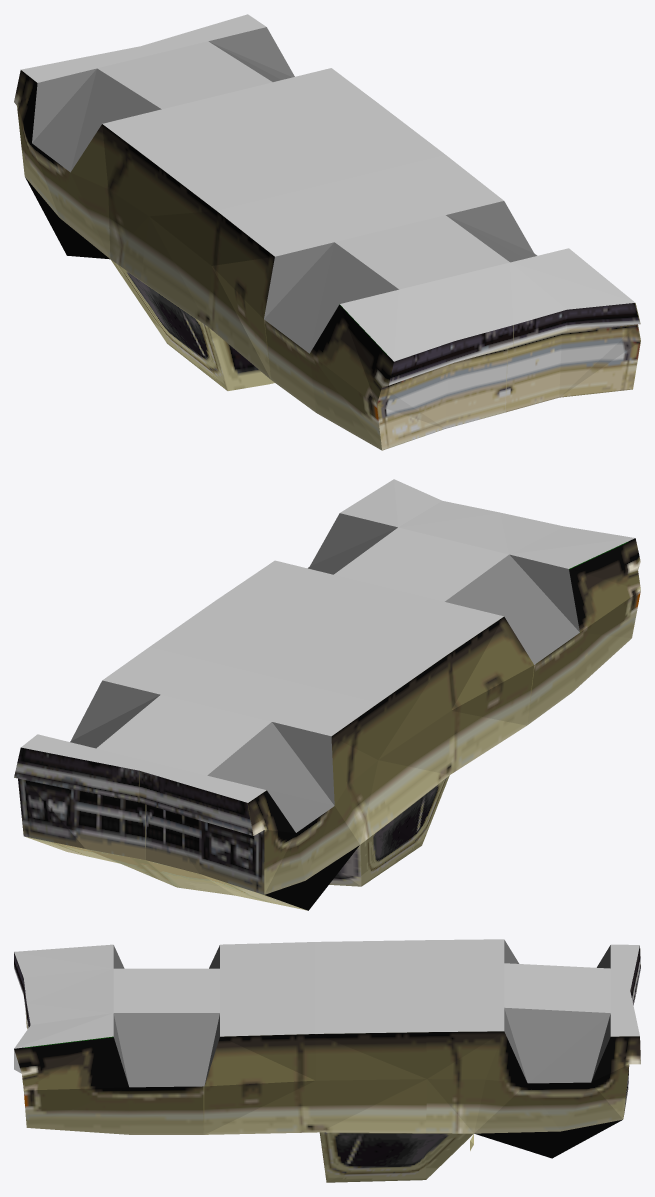
Rendered from VEGAS_model4_damaged.obj.
3 renders of one model, top to bottom at view 1: azimuth 30°, elevation 25°; view 2: azimuth 150°, elevation 25°; view 3: azimuth 270°, elevation 25°, orthographic. The views are drawn at different scales.
Visible parts, largest first — view 1: VEGAS_model4_damaged; view 2: VEGAS_model4_damaged; view 3: VEGAS_model4_damaged.
Boxes of the visible parts, x1,y1,x2,y2 form: VEGAS_model4_damaged: [14, 14, 640, 450]; VEGAS_model4_damaged: [14, 479, 640, 910]; VEGAS_model4_damaged: [14, 939, 640, 1182].
Bounding box in the file's own units: 270 × 182 × 642.
